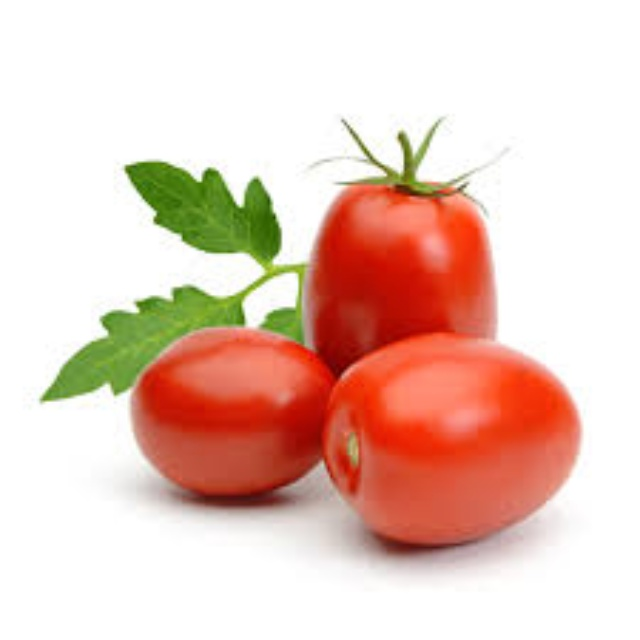tomato: (323, 334, 585, 551), (297, 166, 514, 376), (130, 321, 342, 502)
